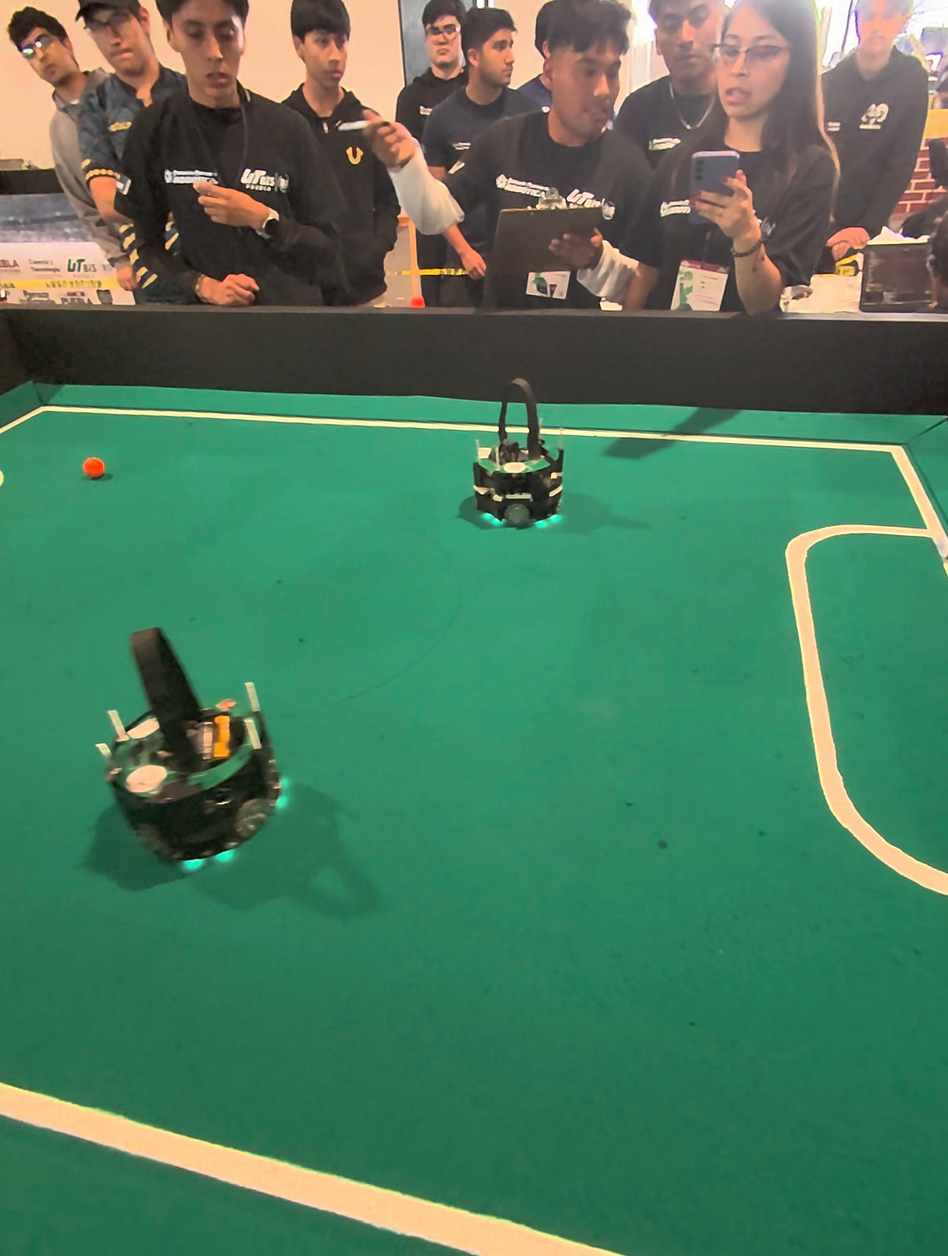Robot: (95, 591, 310, 893), (462, 379, 577, 544)
pelota: (81, 452, 111, 493)
